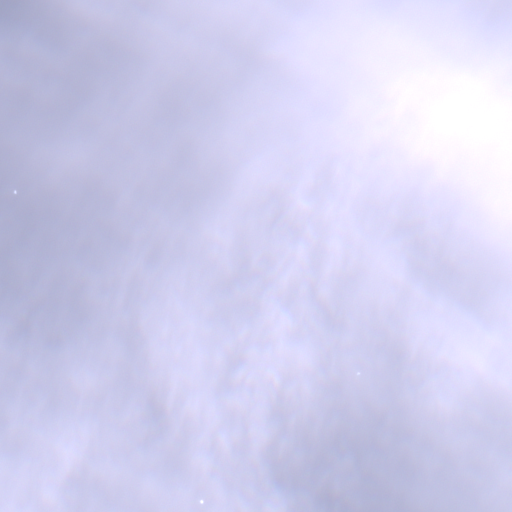Iceberg: (200, 500, 203, 503), (357, 372, 360, 374), (14, 191, 16, 193)
